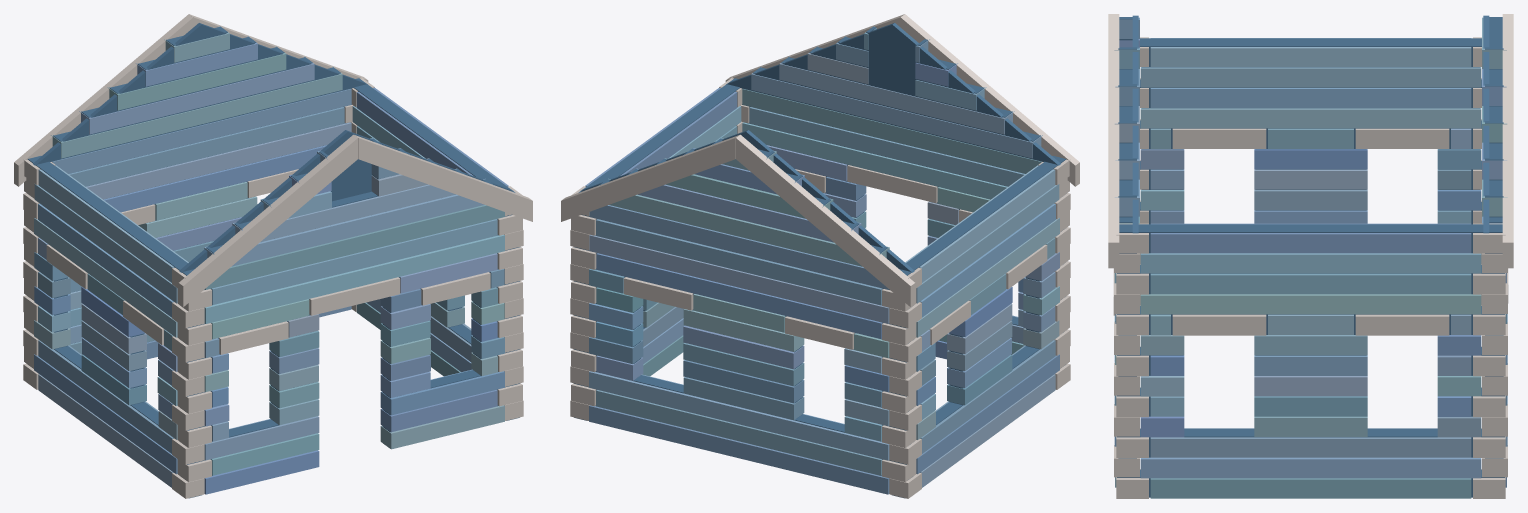
File: CandyHouse_Bungalow_Walls.glb
3 renders of one model, left to right at view 1: azimuth 30°, elevation 25°; view 2: azimuth 150°, elevation 25°; view 3: azimuth 270°, elevation 25°, orthographic. The views are drawn at different scales.
Parts seen in each view (by area): view 1: CandyHouse_Bungalow_Walls; view 2: CandyHouse_Bungalow_Walls; view 3: CandyHouse_Bungalow_Walls.
Boxes of the visible parts, x1,y1,x2,y2 form: CandyHouse_Bungalow_Walls: (14,14,532,498); CandyHouse_Bungalow_Walls: (561,14,1079,498); CandyHouse_Bungalow_Walls: (1108,14,1513,498).
Size of the model in its own units: 19.8 by 17.47 by 16.6.
